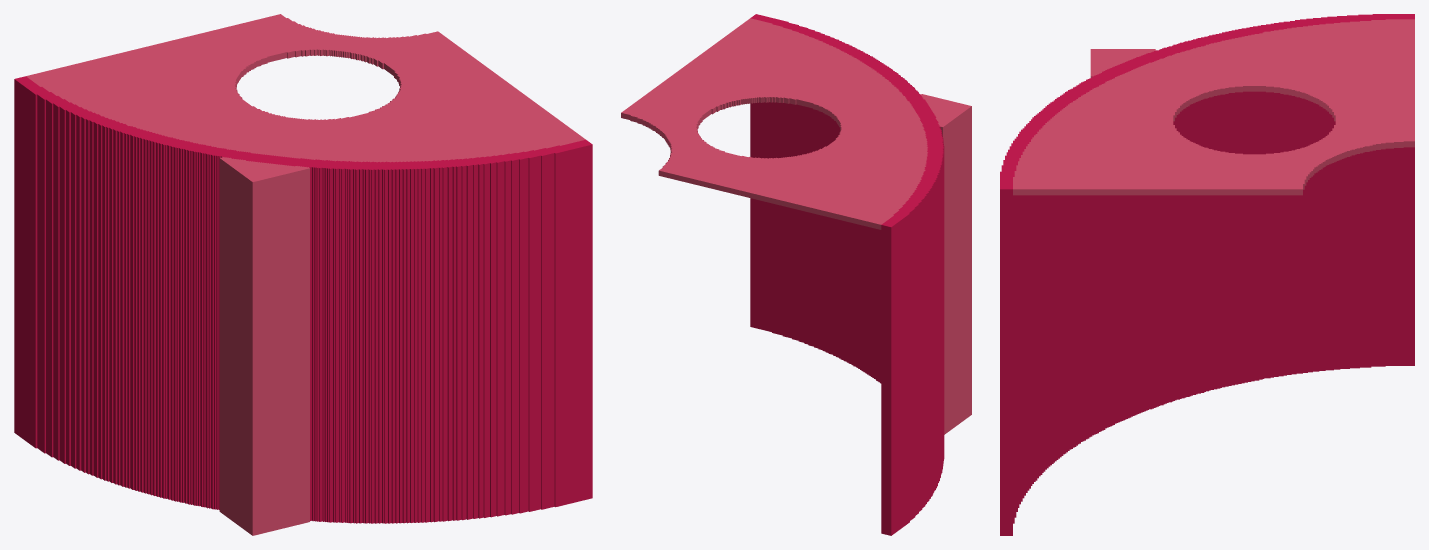
Rendered from base_with_flag_elements-6.obj.
The picture shows the model from 3 angles, left to right: view 1: azimuth 30°, elevation 25°; view 2: azimuth 150°, elevation 25°; view 3: azimuth 270°, elevation 25°; orthographic projection. The views are drawn at different scales.
Size of the model in its own units: 25.6 by 23.6 by 25.6.
1 material, 1 textured.
